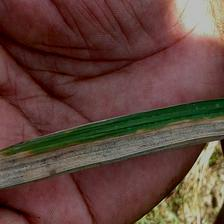2 BacterialBlight: (10, 124, 221, 179)
